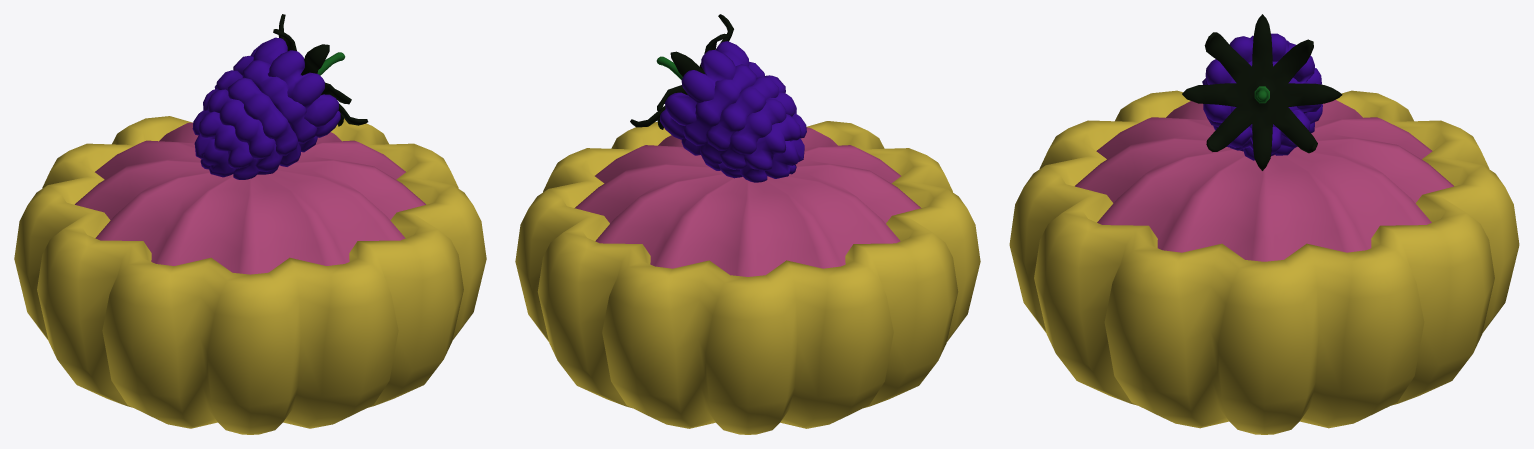
File: Pastry_2.FBX
3 renders of one model, left to right at view 1: azimuth 30°, elevation 25°; view 2: azimuth 150°, elevation 25°; view 3: azimuth 270°, elevation 25°, orthographic. The views are drawn at different scales.
Visible parts, largest first — view 1: Pastry_2; view 2: Pastry_2; view 3: Pastry_2.
Boxes of the visible parts, left/top/right/bottom form: Pastry_2: left=14, top=14, right=486, bottom=434; Pastry_2: left=515, top=14, right=980, bottom=434; Pastry_2: left=1009, top=14, right=1519, bottom=434.
Size of the model in its own units: 1012 by 1012 by 813.
